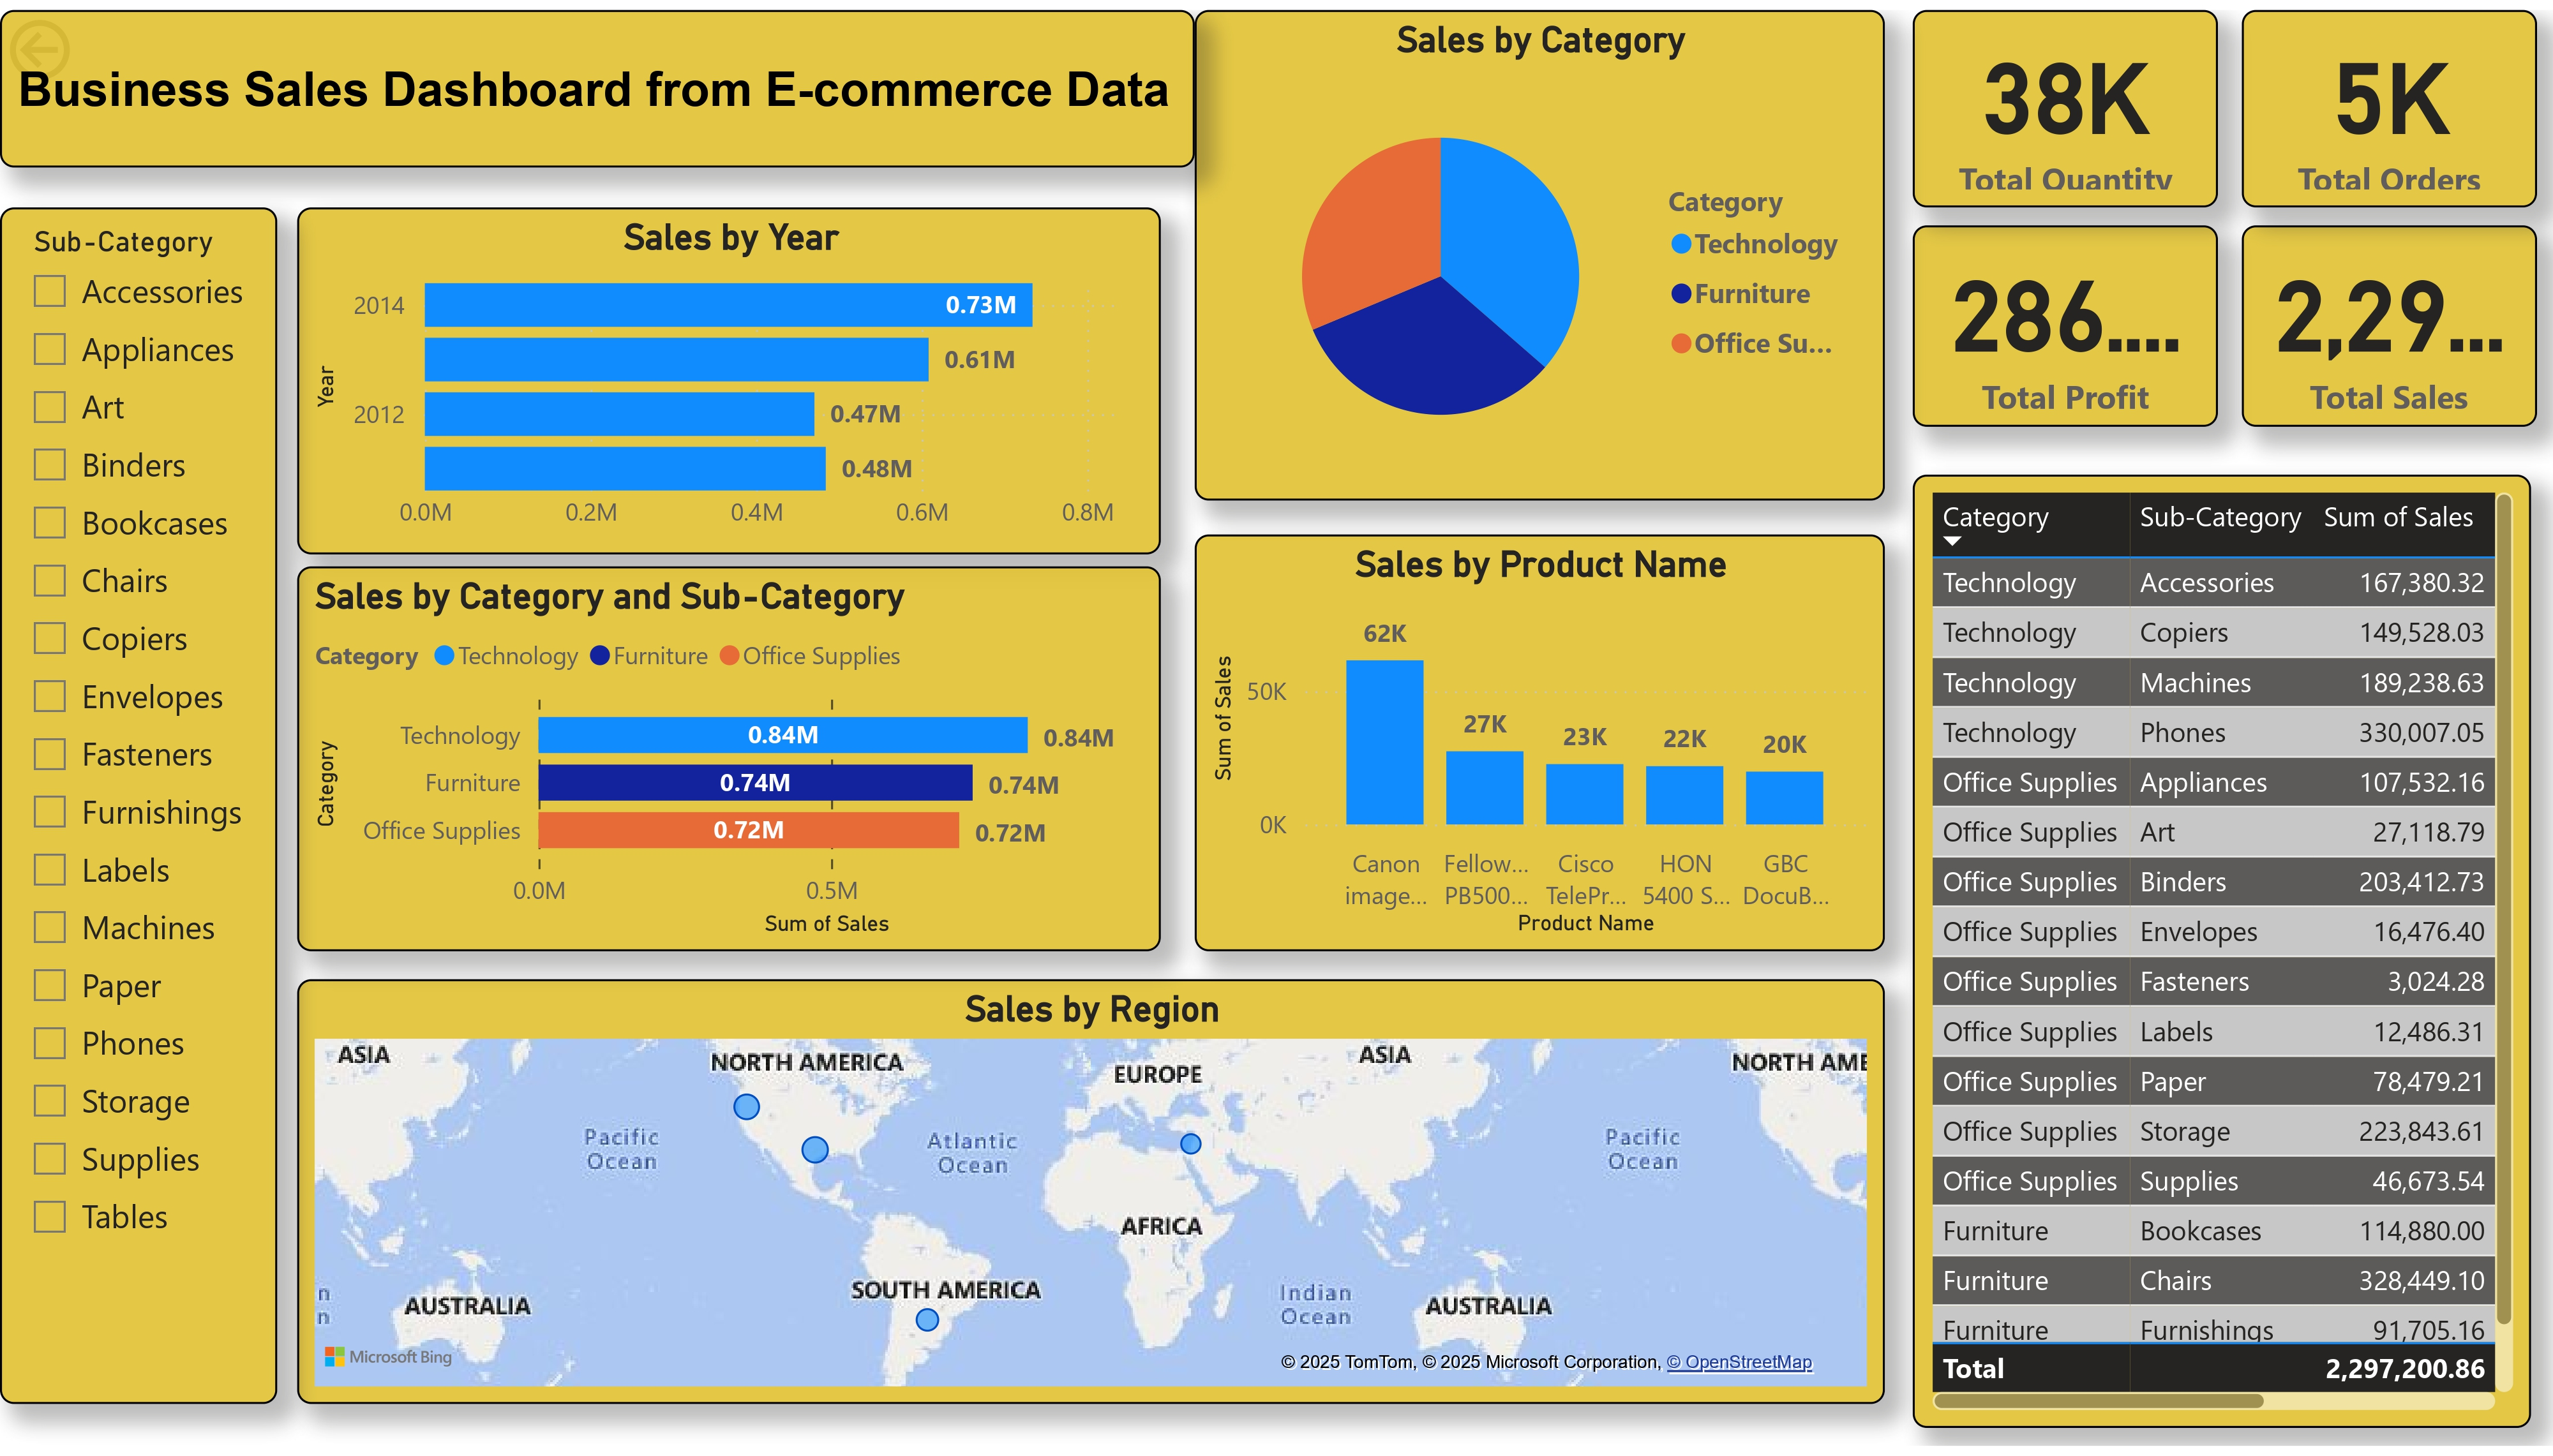

The dashboard page shown, as its layout file describes it:
{"tool":"powerbi","page":{"name":"Page 1","canvas":[1280,720],"ordinal":0},"visuals":[{"type":"card","fields":{"Values":["Orders.Total Profit"]},"box":[958.9,107.8,153.3,101.1],"z":0},{"type":"card","fields":{"Values":["Orders.Total Quantity"]},"box":[958.9,0,153.3,98.9],"z":1},{"type":"card","fields":{"Values":["Orders.Total Sales"]},"box":[1124.4,107.8,147.8,101.1],"z":2},{"type":"barChart","title":"Sales by Year","fields":{"Y":["Sum(Orders.Sales)"],"Category":["Orders.Order Date.Variation.Date Hierarchy.Year","Orders.Order Date.Variation.Date Hierarchy.Quarter","Orders.Order Date.Variation.Date Hierarchy.Month","Orders.Order Date.Variation.Date Hierarchy.Day"]},"box":[148.9,98.9,433.3,174.4],"z":5},{"type":"clusteredColumnChart","title":"Sales by Product Name","fields":{"Category":["Orders.Product Name"],"Y":["Sum(Orders.Sales)"]},"box":[598.9,263.3,345.6,208.9],"z":6},{"type":"pieChart","title":"Sales by Category","fields":{"Category":["Orders.Category"],"Y":["Sum(Orders.Sales)"]},"box":[598.9,0,345.6,245.6],"z":7},{"type":"map","title":" Sales by Region","fields":{"Category":["Orders.Region"],"Size":["Sum(Orders.Sales)"]},"box":[148.9,485.6,795.6,213.3],"z":8},{"type":"barChart","title":"Sales by Category and Sub-Category","fields":{"Category":["Orders.Category"],"Y":["Sum(Orders.Sales)"],"Series":["Orders.Category"]},"box":[148.9,278.9,433.3,193.3],"z":9},{"type":"tableEx","fields":{"Values":["Orders.Category","Orders.Sub-Category","Sum(Orders.Sales)","Sum(Orders.Profit)","Sum(Orders.Quantity)"]},"box":[958.9,233.3,310,477.8],"z":10},{"type":"actionButton","box":[0,0,100,40],"z":11},{"type":"card","fields":{"Values":["Orders.Total Orders"]},"box":[1124.4,0,147.8,98.9],"z":12},{"type":"textbox","title":"  Business Sales Dashboard from E-commerce Data","box":[0,0,598.8,78.8],"z":13},{"type":"slicer","fields":{"Values":["Orders.Sub-Category"]},"box":[0,98.9,138.9,600],"z":14}]}

Visuals, with their boxes in screenshot pixels (x1, y1, x2, y2), scaled from the page's 1280x720 canvas onto the 2553x1456 screenshot:
card - Orders.Total Profit: Rect(1913, 218, 2219, 422)
card - Orders.Total Quantity: Rect(1913, 0, 2219, 200)
card - Orders.Total Sales: Rect(2243, 218, 2538, 422)
"Sales by Year" barChart: Rect(297, 200, 1161, 553)
"Sales by Product Name" clusteredColumnChart: Rect(1195, 533, 1884, 955)
"Sales by Category" pieChart: Rect(1195, 0, 1884, 496)
" Sales by Region" map: Rect(297, 982, 1884, 1413)
"Sales by Category and Sub-Category" barChart: Rect(297, 564, 1161, 955)
tableEx - Orders.Category x Orders.Sub-Category: Rect(1913, 472, 2531, 1438)
actionButton: Rect(0, 0, 199, 81)
card - Orders.Total Orders: Rect(2243, 0, 2538, 200)
"  Business Sales Dashboard from E-commerce Data" textbox: Rect(0, 0, 1194, 160)
slicer - Orders.Sub-Category: Rect(0, 200, 277, 1413)
